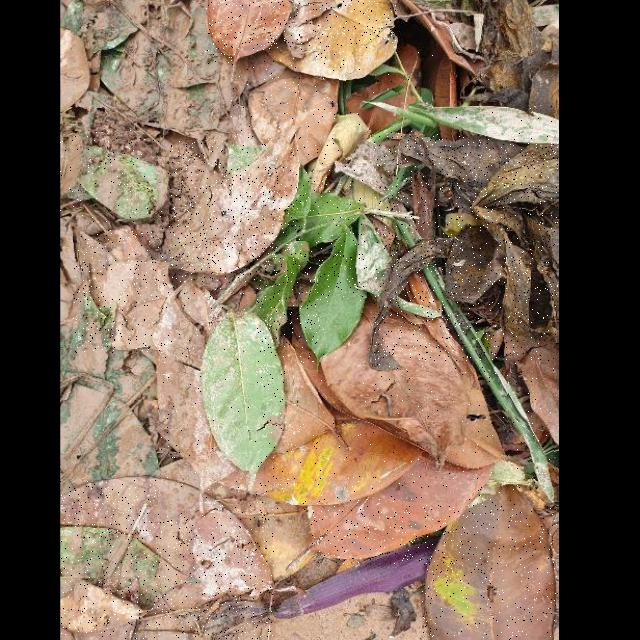biowaste: (375, 133, 558, 361), (60, 479, 274, 639), (319, 298, 508, 471), (424, 263, 554, 504), (159, 283, 256, 513), (422, 488, 558, 640), (161, 140, 300, 285), (309, 459, 493, 564), (251, 425, 424, 510), (202, 314, 286, 476), (230, 51, 339, 167), (73, 230, 169, 354), (264, 0, 398, 81), (61, 129, 169, 224), (300, 224, 368, 363), (347, 45, 433, 136), (276, 166, 364, 251), (413, 106, 559, 146), (205, 0, 293, 65), (256, 251, 310, 348)
